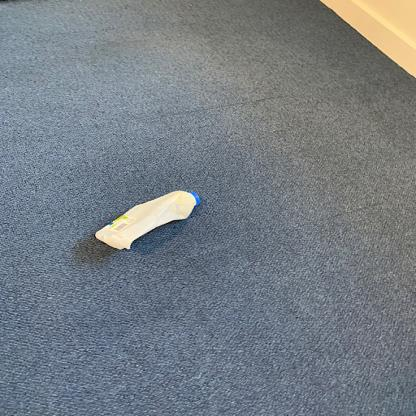trash: (95, 190, 207, 252)
